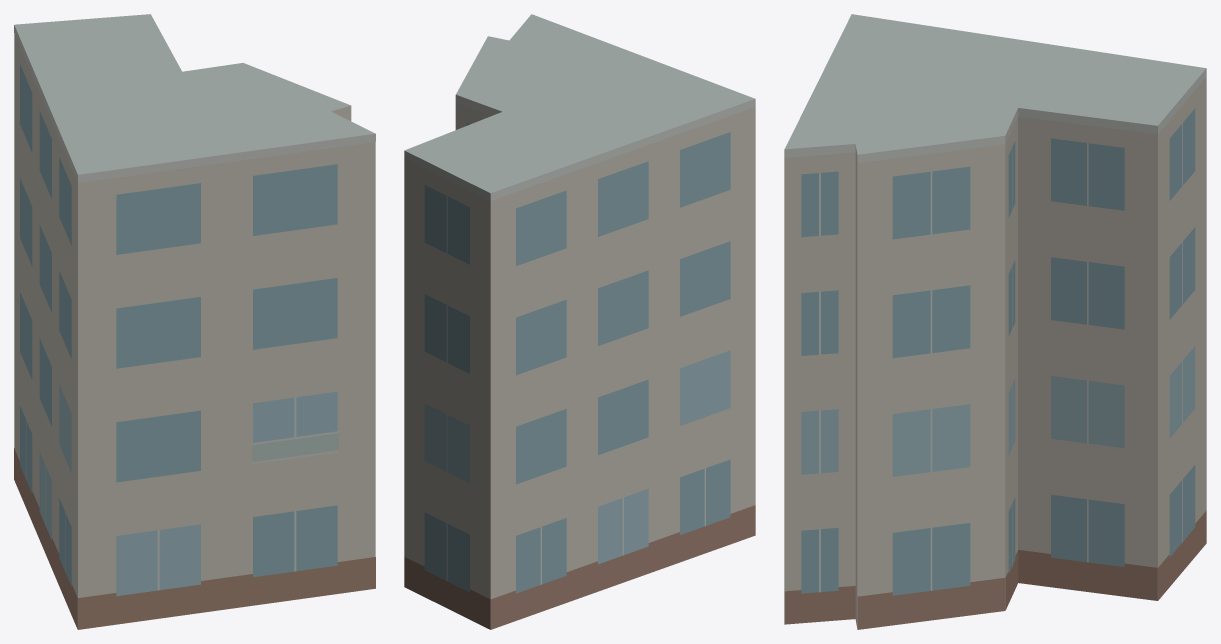
The model's file is survey-upis-32962759.glb.
3 renders of one model, left to right at view 1: azimuth 30°, elevation 25°; view 2: azimuth 150°, elevation 25°; view 3: azimuth 270°, elevation 25°, orthographic. The views are drawn at different scales.
Parts seen in each view (by area): view 1: survey-upis-32962759.tmp; view 2: survey-upis-32962759.tmp; view 3: survey-upis-32962759.tmp.
Part boxes in pixels (x1=…): survey-upis-32962759.tmp: x1=14, y1=14, x2=375, y2=629; survey-upis-32962759.tmp: x1=404, y1=14, x2=755, y2=629; survey-upis-32962759.tmp: x1=784, y1=14, x2=1206, y2=629.
Size of the model in its own units: 8.66 by 13.61 by 10.97.
